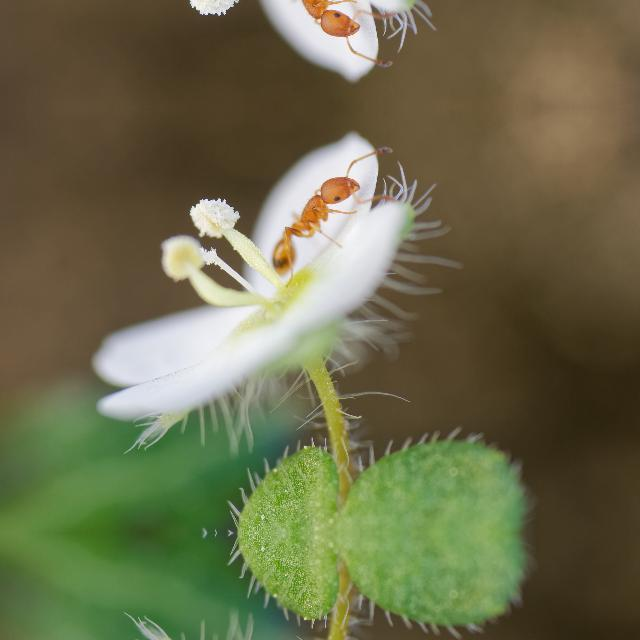Temnothorax: (241, 157, 387, 283), (241, 0, 387, 54)
